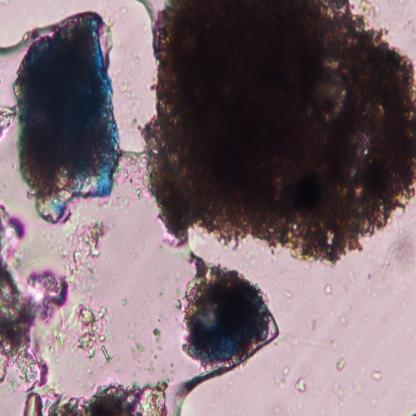Air bubble: (0, 0, 162, 172)
Background material: (141, 0, 416, 261), (0, 200, 64, 383), (51, 380, 168, 415), (52, 299, 114, 364), (64, 218, 110, 298), (131, 327, 163, 373), (114, 166, 144, 210), (343, 262, 372, 294), (148, 273, 177, 299), (20, 390, 46, 415), (0, 102, 16, 135), (274, 365, 289, 390), (336, 312, 352, 329), (358, 0, 374, 17), (294, 376, 308, 394), (305, 312, 317, 332), (333, 381, 346, 399), (173, 285, 182, 309), (335, 356, 347, 372), (322, 338, 336, 350), (282, 288, 293, 300), (371, 370, 382, 381), (324, 283, 334, 295), (119, 298, 130, 306)
Fragment: (14, 15, 120, 220), (186, 264, 271, 370)
